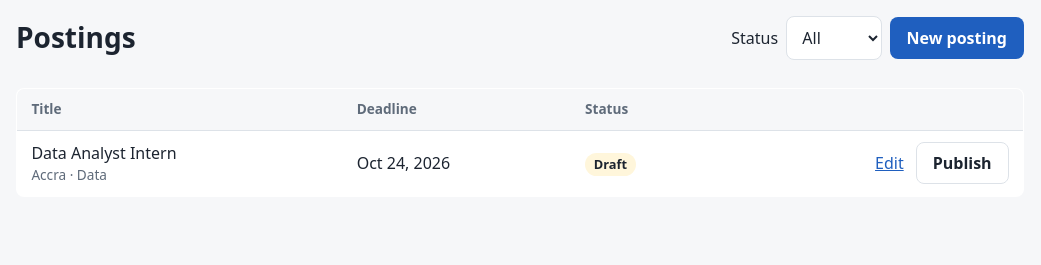
Test: PostingsPage (US-05) › shows the reason when publishing is refused
What coordinates should you click on to do the following:
click the button "Publish"
I would click on:
 (962, 163)
Its box is [916,142,1009,184].
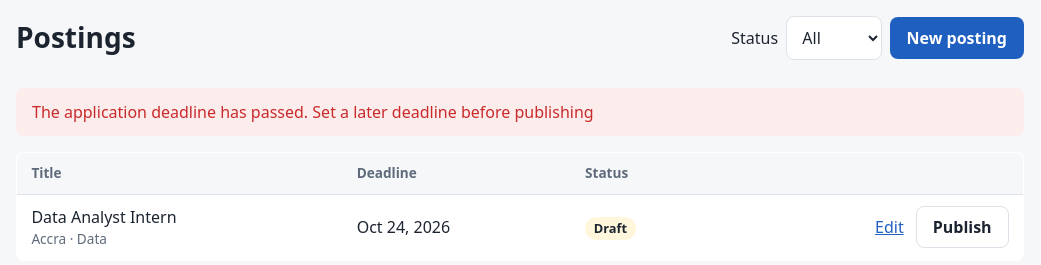
Result: the text "The application deadline has passed. Set a later deadline before publishing" is shown at [16,88,1024,136]
